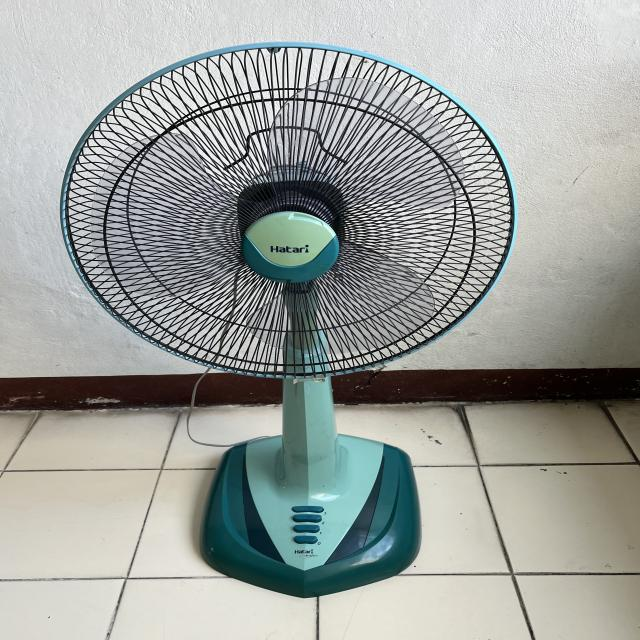electronics: (61, 43, 515, 597)
